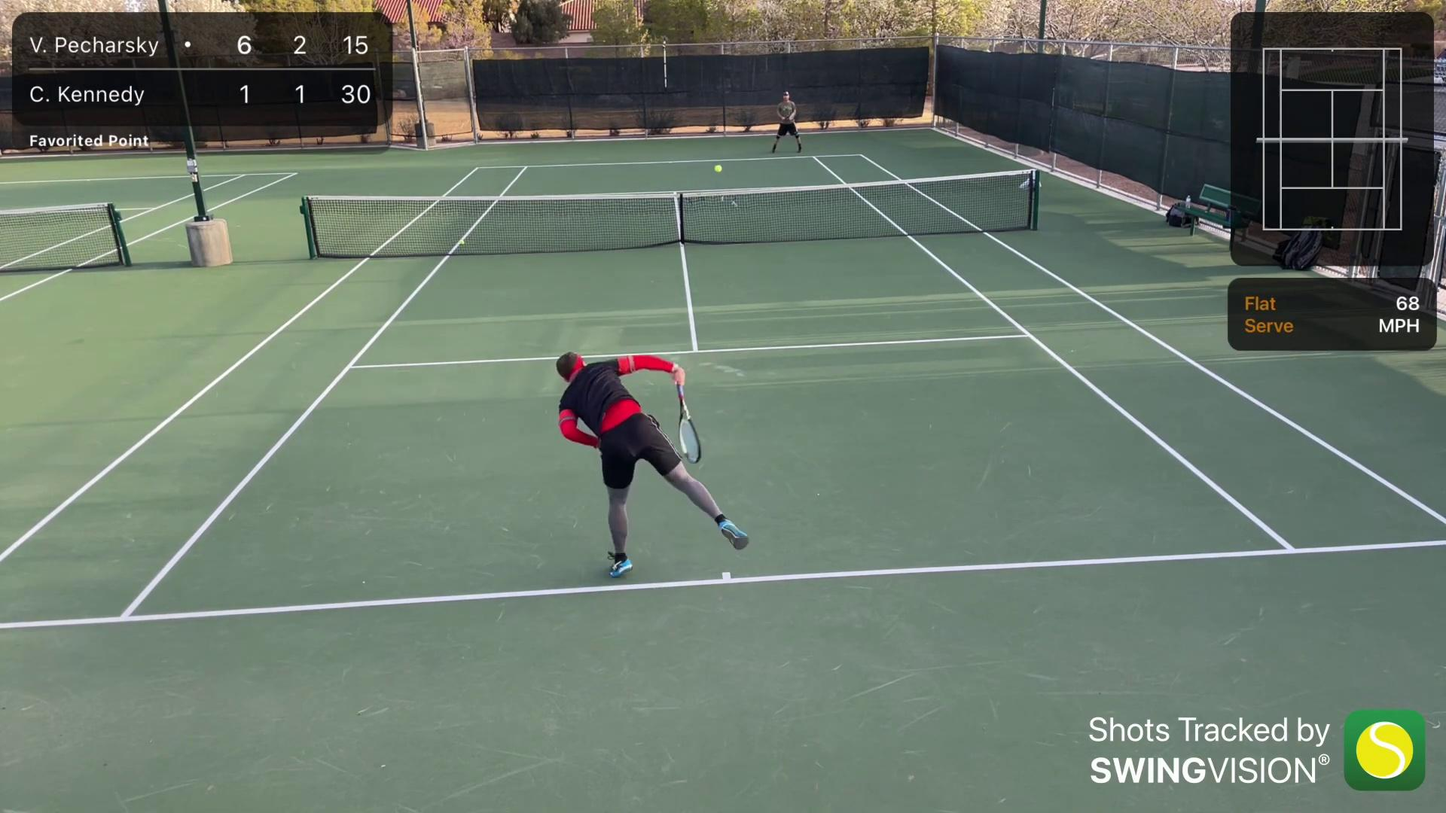ball: (713, 163, 723, 174)
